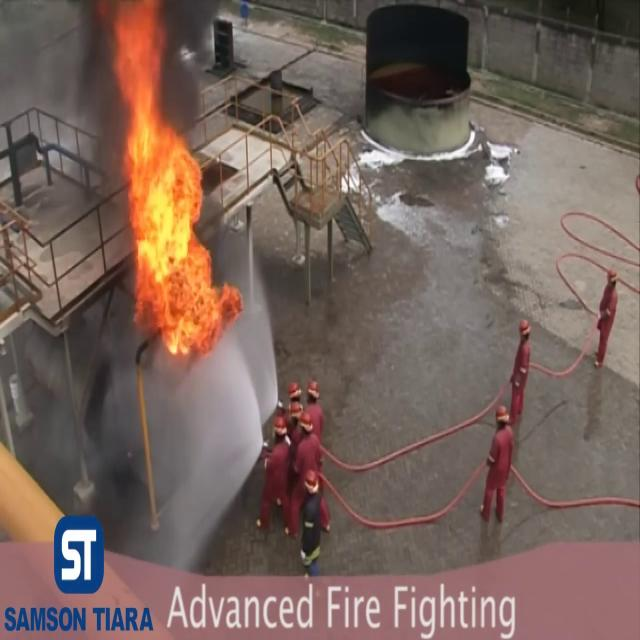Fire: (108, 4, 236, 356)
